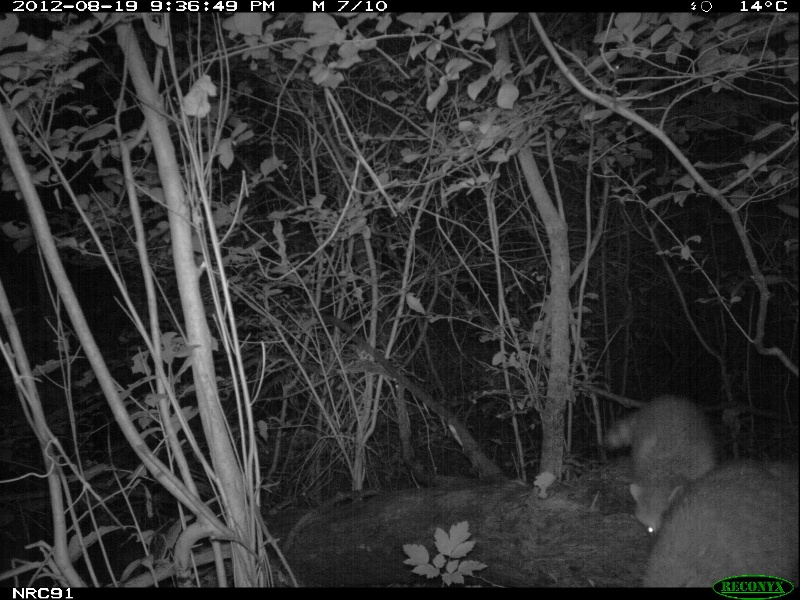raccoon: (599, 394, 714, 541)
